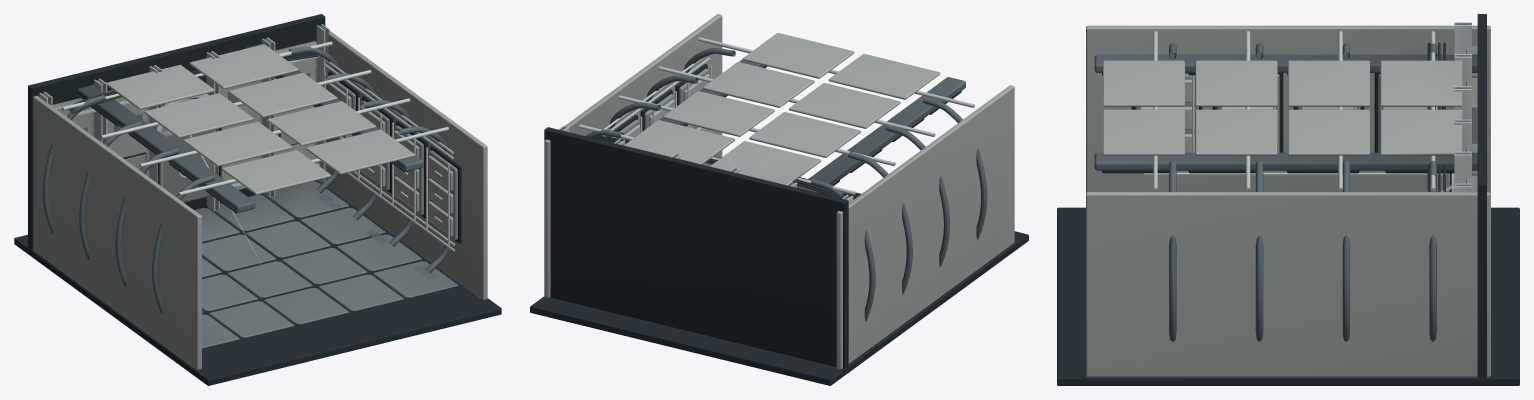
File: shell-standard.glb
3 renders of one model, left to right at view 1: azimuth 30°, elevation 25°; view 2: azimuth 150°, elevation 25°; view 3: azimuth 270°, elevation 25°, orthographic. The views are drawn at different scales.
Visible parts, largest first — view 1: shell__Graphite enamel, shell__Anodized deck alloy, shell__Recess and gasket, shell__Coated pressure frame, shell__Satin aluminium, shell__Recessed titanium panels, shell__Restraint webbing; view 2: shell__Recess and gasket, shell__Graphite enamel, shell__Coated pressure frame, shell__Satin aluminium, shell__Recessed titanium panels, shell__Restraint webbing; view 3: shell__Graphite enamel, shell__Recess and gasket, shell__Coated pressure frame, shell__Satin aluminium, shell__Recessed titanium panels, shell__Restraint webbing.
Boxes of the visible parts, bbox=[...] form: shell__Graphite enamel: bbox=[33, 31, 487, 369]; shell__Anodized deck alloy: bbox=[194, 181, 458, 348]; shell__Recess and gasket: bbox=[14, 14, 501, 385]; shell__Coated pressure frame: bbox=[42, 25, 448, 313]; shell__Satin aluminium: bbox=[39, 24, 455, 251]; shell__Recessed titanium panels: bbox=[125, 81, 457, 239]; shell__Restraint webbing: bbox=[68, 52, 321, 184]; shell__Recess and gasket: bbox=[530, 64, 1028, 385]; shell__Graphite enamel: bbox=[544, 14, 1014, 369]; shell__Coated pressure frame: bbox=[560, 48, 987, 321]; shell__Satin aluminium: bbox=[558, 37, 974, 203]; shell__Recessed titanium panels: bbox=[611, 68, 708, 138]; shell__Restraint webbing: bbox=[594, 136, 848, 198]; shell__Graphite enamel: bbox=[1086, 25, 1490, 377]; shell__Recess and gasket: bbox=[1057, 14, 1519, 385]; shell__Coated pressure frame: bbox=[1094, 23, 1477, 341]; shell__Satin aluminium: bbox=[1140, 22, 1471, 191]; shell__Recessed titanium panels: bbox=[1135, 73, 1441, 152]; shell__Restraint webbing: bbox=[1427, 42, 1451, 191].
Size of the model in its own units: 7.35 by 3.84 by 8.
